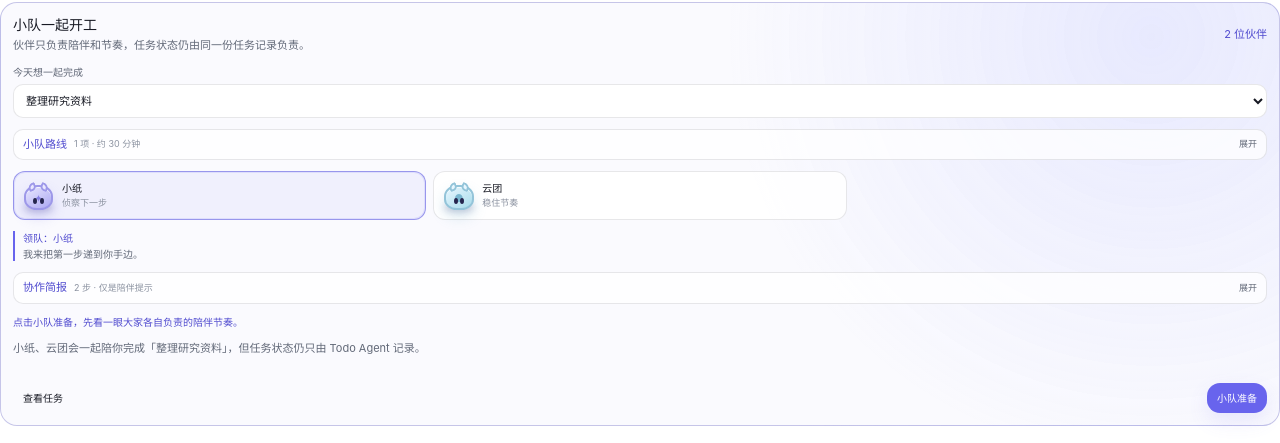
Test: PetTeamHuddleCard › allows a companion to lead the briefing before preparation
Click the button with aria-label "让云团担任领队，稳住节奏": (500, 203) [433,171,847,220]
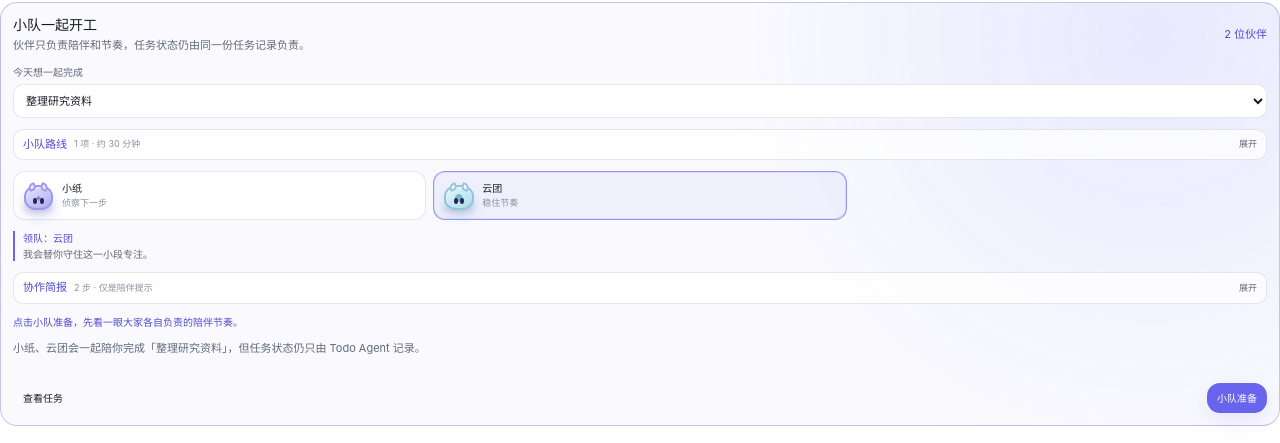
Expected: the text "领队：云团" is shown, [23,232,73,244]
